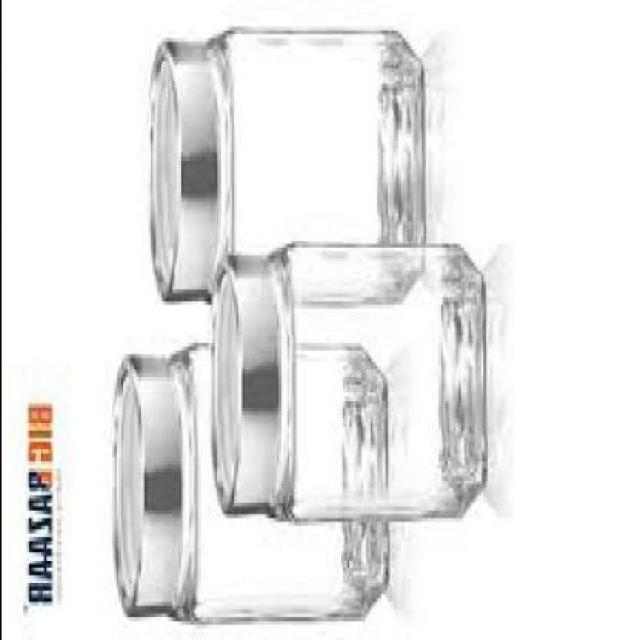GLASS: (264, 232, 484, 514), (162, 339, 384, 618), (203, 26, 419, 297)
METAL: (109, 354, 180, 609), (210, 252, 276, 510), (147, 41, 211, 297)
